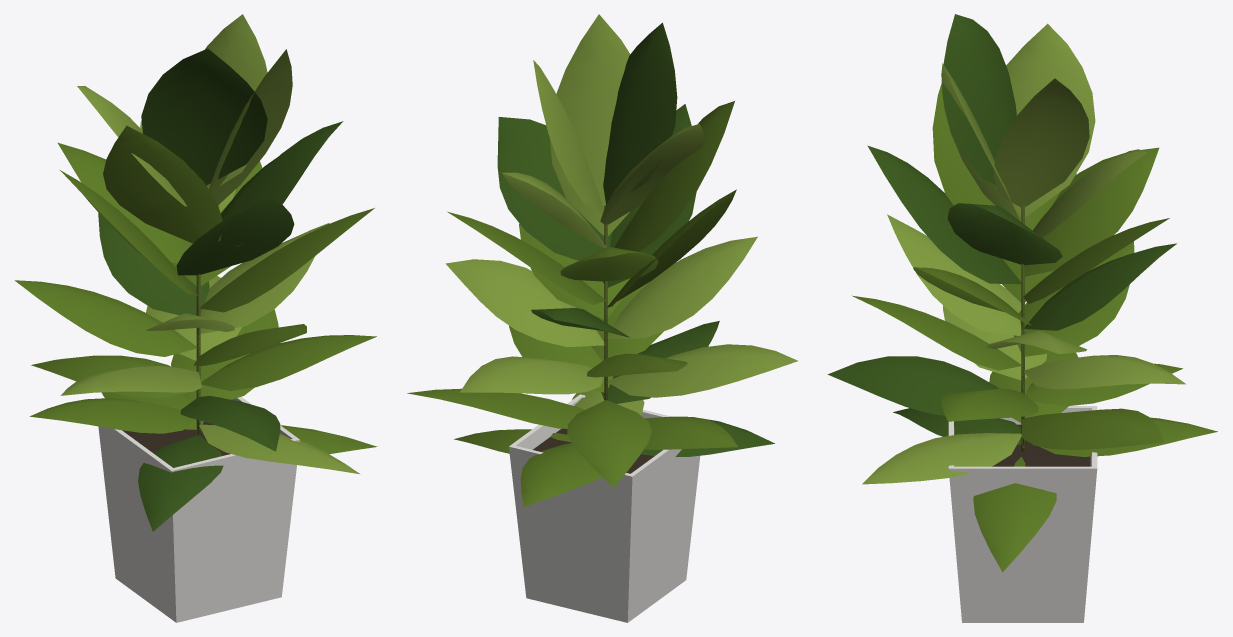
Rendered from greenery.large-plant.glb.
3 views of the same model, side by side, from view 1: azimuth 30°, elevation 25°; view 2: azimuth 150°, elevation 25°; view 3: azimuth 270°, elevation 25° (orthographic). The views are drawn at different scales.
Parts seen in each view (by area): view 1: greenery.large-plant.001; view 2: greenery.large-plant.001; view 3: greenery.large-plant.001.
Part boxes in pixels (x1=…): greenery.large-plant.001: x1=14, y1=14, x2=377, y2=622; greenery.large-plant.001: x1=407, y1=14, x2=797, y2=622; greenery.large-plant.001: x1=827, y1=14, x2=1217, y2=622.
Size of the model in its own units: 0.9 by 1.45 by 0.9.
